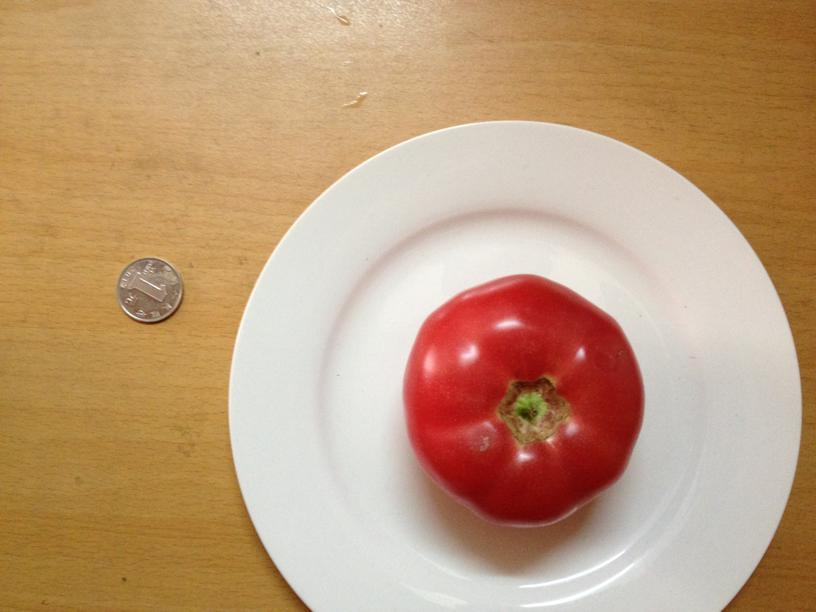coin: (116, 256, 187, 324)
tomato: (393, 271, 645, 526)
